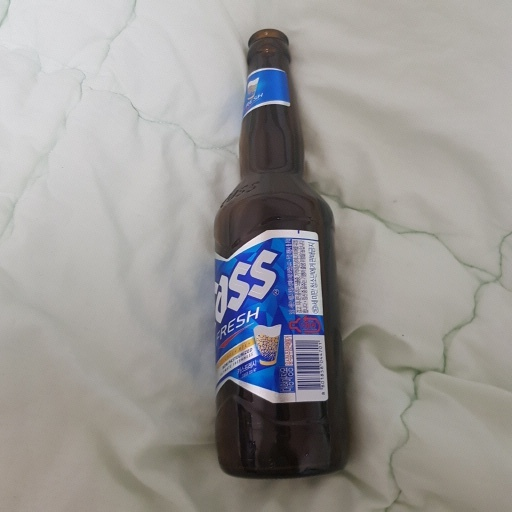Glass_1: (208, 30, 349, 478)
